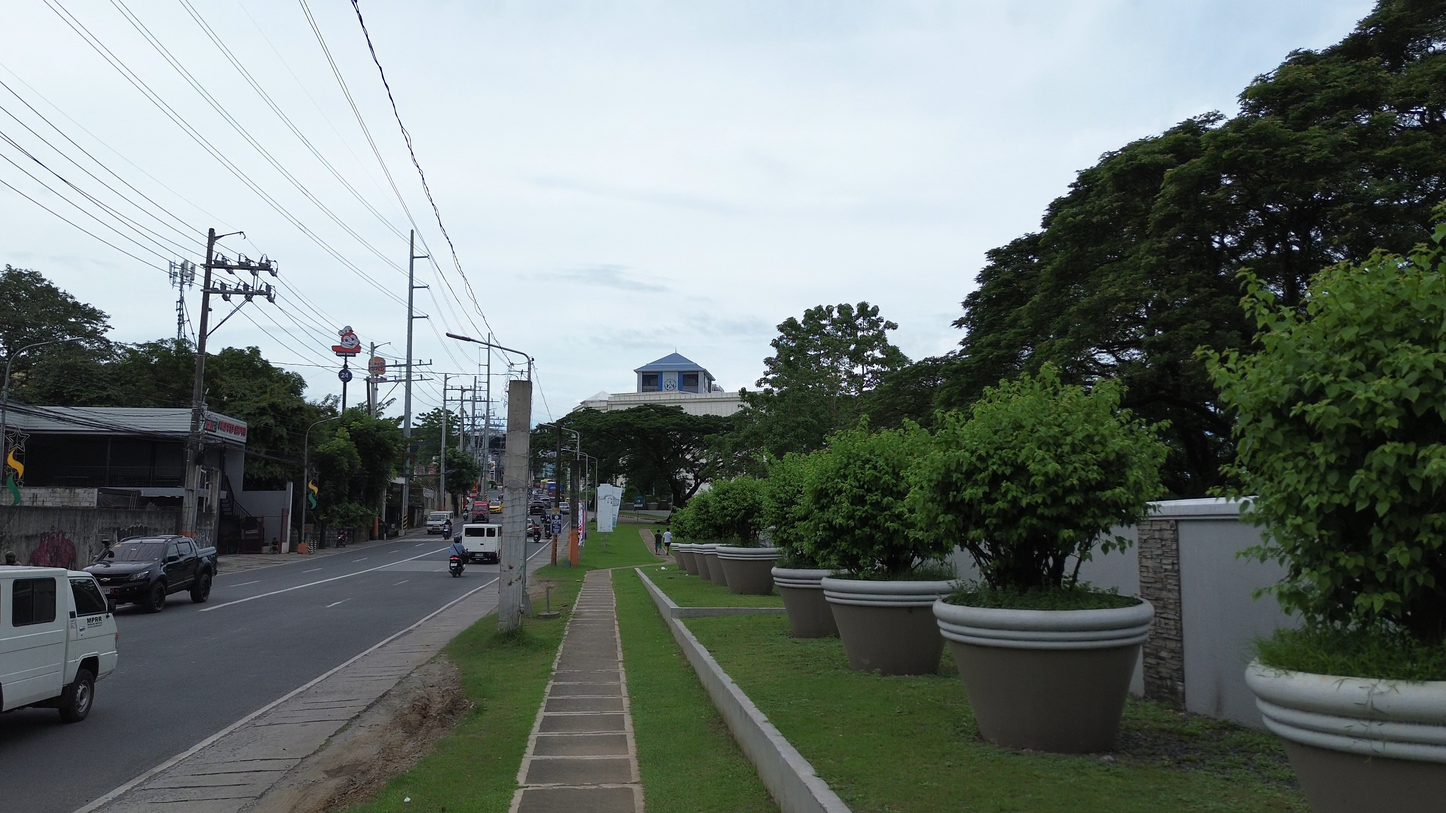truck: (426, 510, 452, 534)
vehicle: (0, 566, 117, 722), (84, 536, 216, 612), (461, 524, 501, 563), (426, 511, 452, 534), (448, 554, 464, 577), (528, 517, 543, 541), (529, 501, 547, 516), (490, 500, 503, 514)
